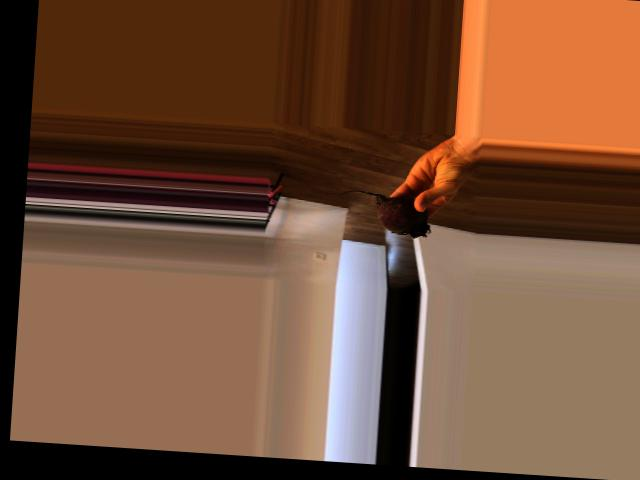beet: (336, 189, 431, 238)
